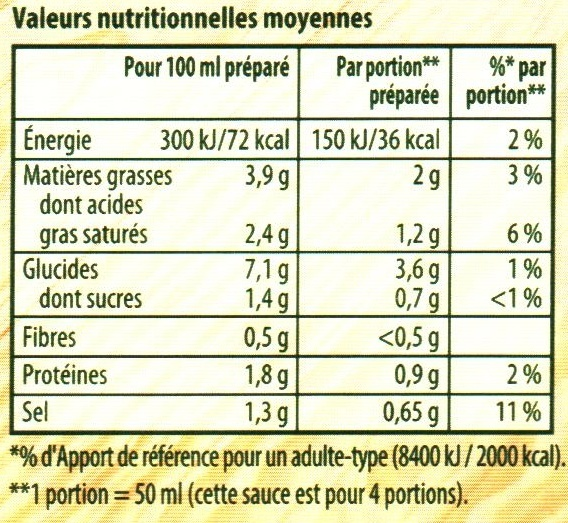column: (23, 51, 287, 426), (314, 56, 438, 427), (467, 57, 547, 424)
table: (12, 43, 555, 437)
